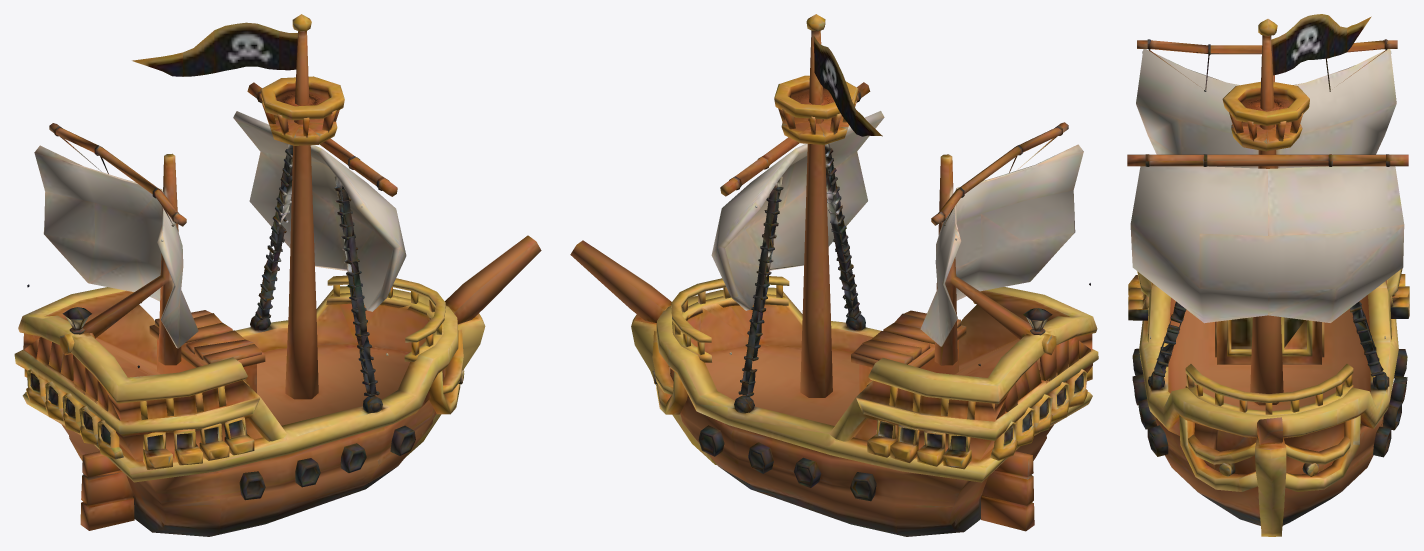
File: bateau.glb
3 renders of one model, left to right at view 1: azimuth 30°, elevation 25°; view 2: azimuth 150°, elevation 25°; view 3: azimuth 270°, elevation 25°, orthographic.
Visible parts, largest first — view 1: tripo_node_0a61353a-47c1-40f8-9e6a-6828a8e3312b; view 2: tripo_node_0a61353a-47c1-40f8-9e6a-6828a8e3312b; view 3: tripo_node_0a61353a-47c1-40f8-9e6a-6828a8e3312b.
Boxes of the visible parts, box(x1,y1,x2,y2) form: tripo_node_0a61353a-47c1-40f8-9e6a-6828a8e3312b: box(14, 14, 541, 536); tripo_node_0a61353a-47c1-40f8-9e6a-6828a8e3312b: box(570, 14, 1098, 536); tripo_node_0a61353a-47c1-40f8-9e6a-6828a8e3312b: box(1127, 14, 1409, 536).
Bounding box in the file's own units: 0.5312 × 0.5 × 0.2713.
1 material, 1 textured.
